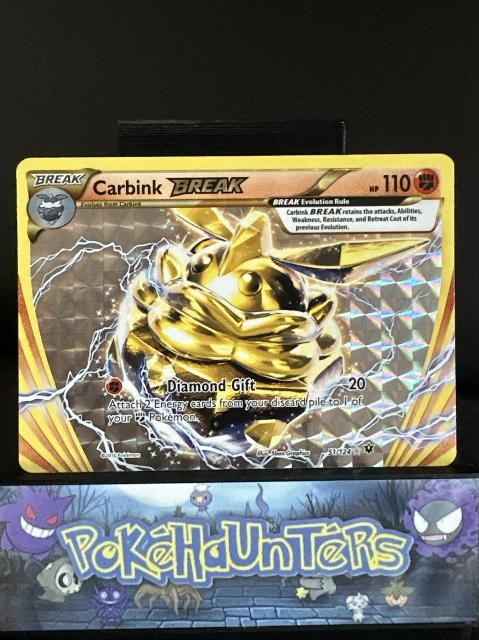Card: (13, 148, 462, 477)
Name: (90, 173, 253, 199)
